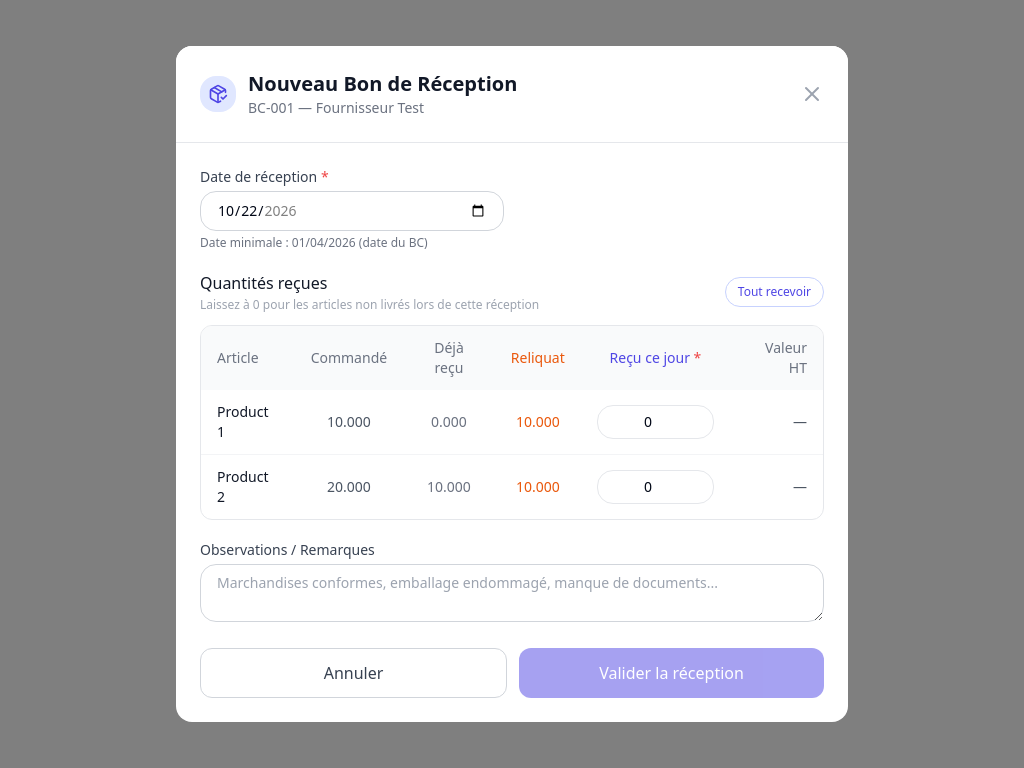
Test: GoodsReceiptModal › should calculate total value correctly
Replace the text in the number field in the row of "Product 1" with "5" at [655, 422], box [597,405,714,439]
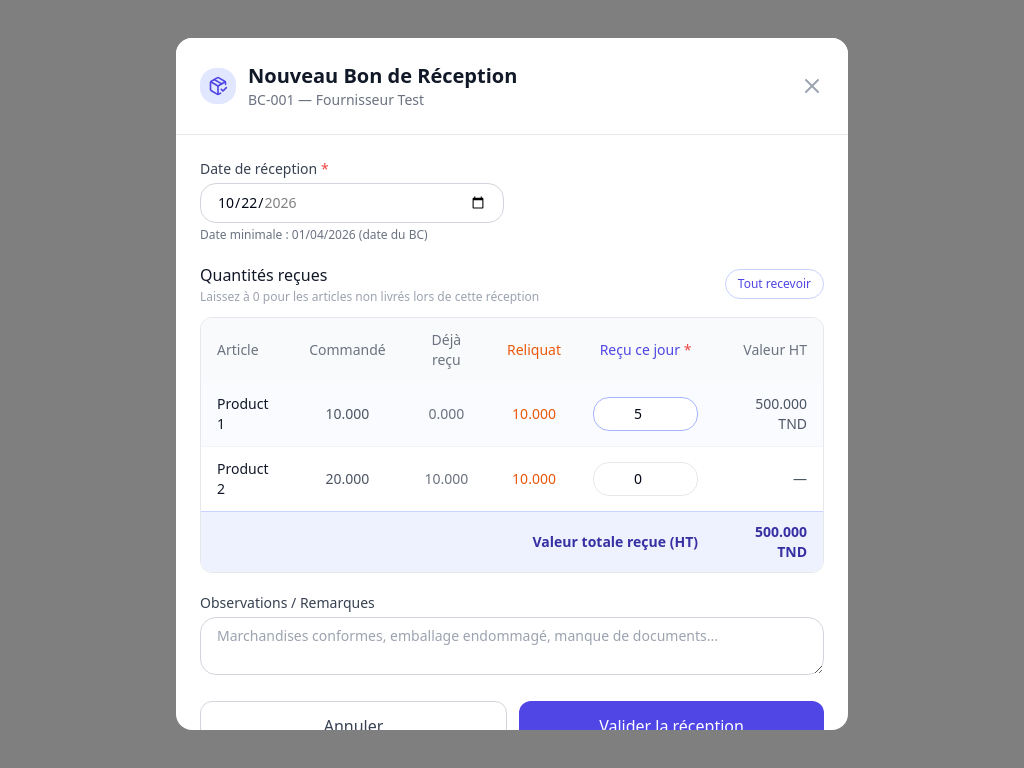
Check: the text "Valeur totale reçue (HT)" is shown, box [201,512,714,572]
